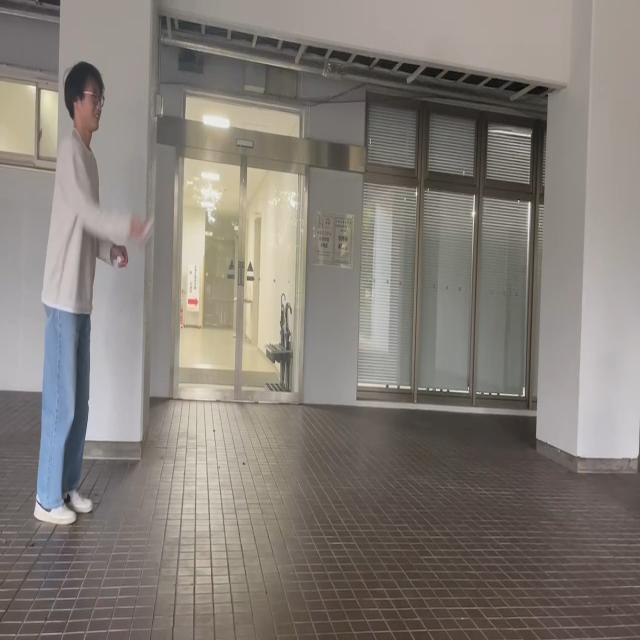paper: (140, 214, 156, 246), (117, 255, 121, 267)
